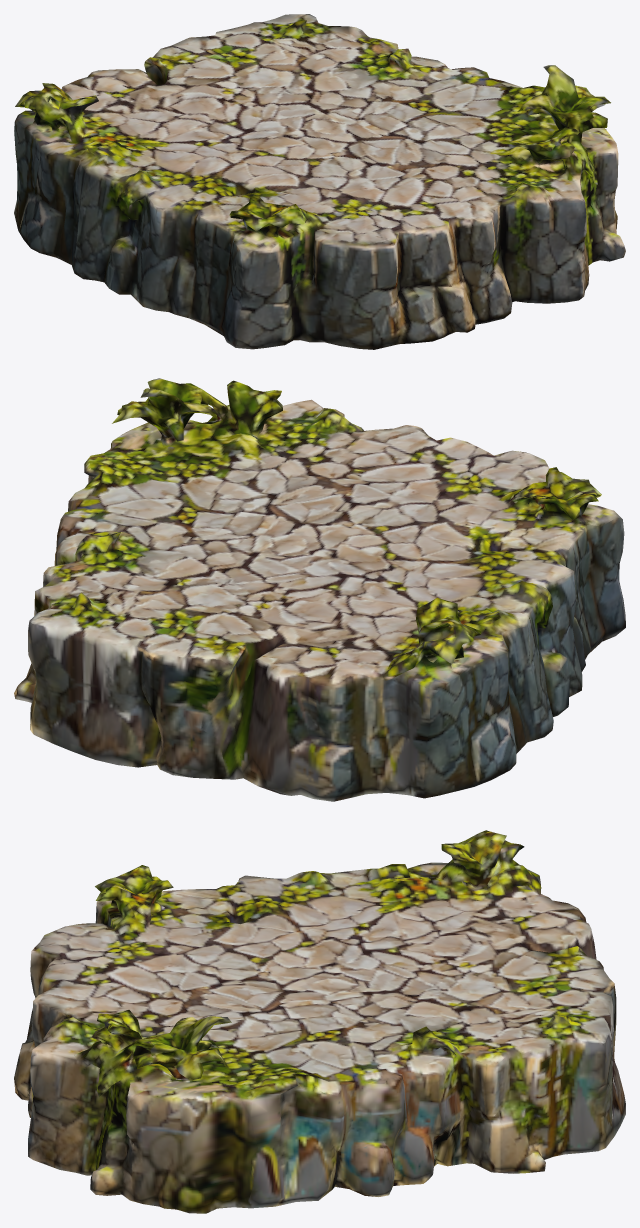
Rendered from SummerDecor_ThirdRoom_StonePlatform.fbx.
3 renders of one model, top to bottom at view 1: azimuth 30°, elevation 25°; view 2: azimuth 150°, elevation 25°; view 3: azimuth 270°, elevation 25°, orthographic. The views are drawn at different scales.
Parts seen in each view (by area): view 1: SummerDecor_ThirdRoom_StonePlatform_Mesh; view 2: SummerDecor_ThirdRoom_StonePlatform_Mesh; view 3: SummerDecor_ThirdRoom_StonePlatform_Mesh.
Part boxes in pixels (x1,y1,x2,y2): SummerDecor_ThirdRoom_StonePlatform_Mesh: (14,14,625,349); SummerDecor_ThirdRoom_StonePlatform_Mesh: (14,378,625,801); SummerDecor_ThirdRoom_StonePlatform_Mesh: (14,830,625,1213).
Bounding box in the file's own units: 5.81 × 1.87 × 6.
1 material, 1 textured.
